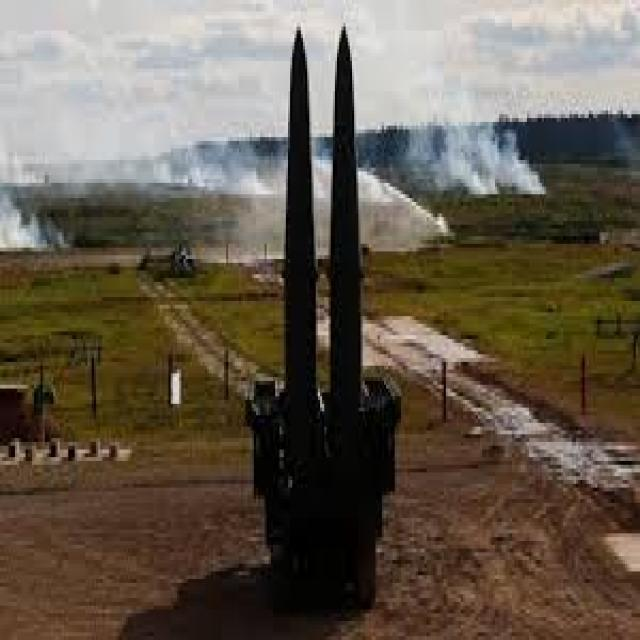Missile: (279, 9, 325, 417), (331, 0, 369, 405)
